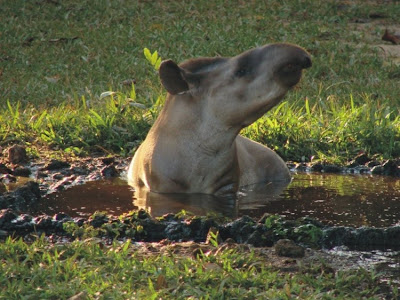Anta: (123, 37, 320, 201)
